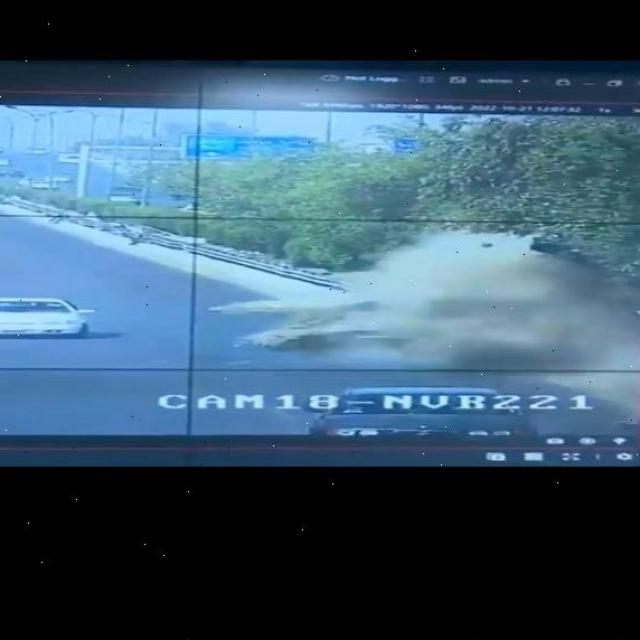accident: (275, 215, 640, 369)
